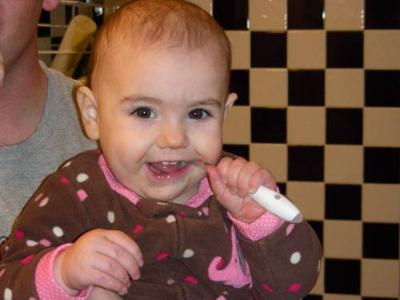person: (2, 3, 326, 300)
